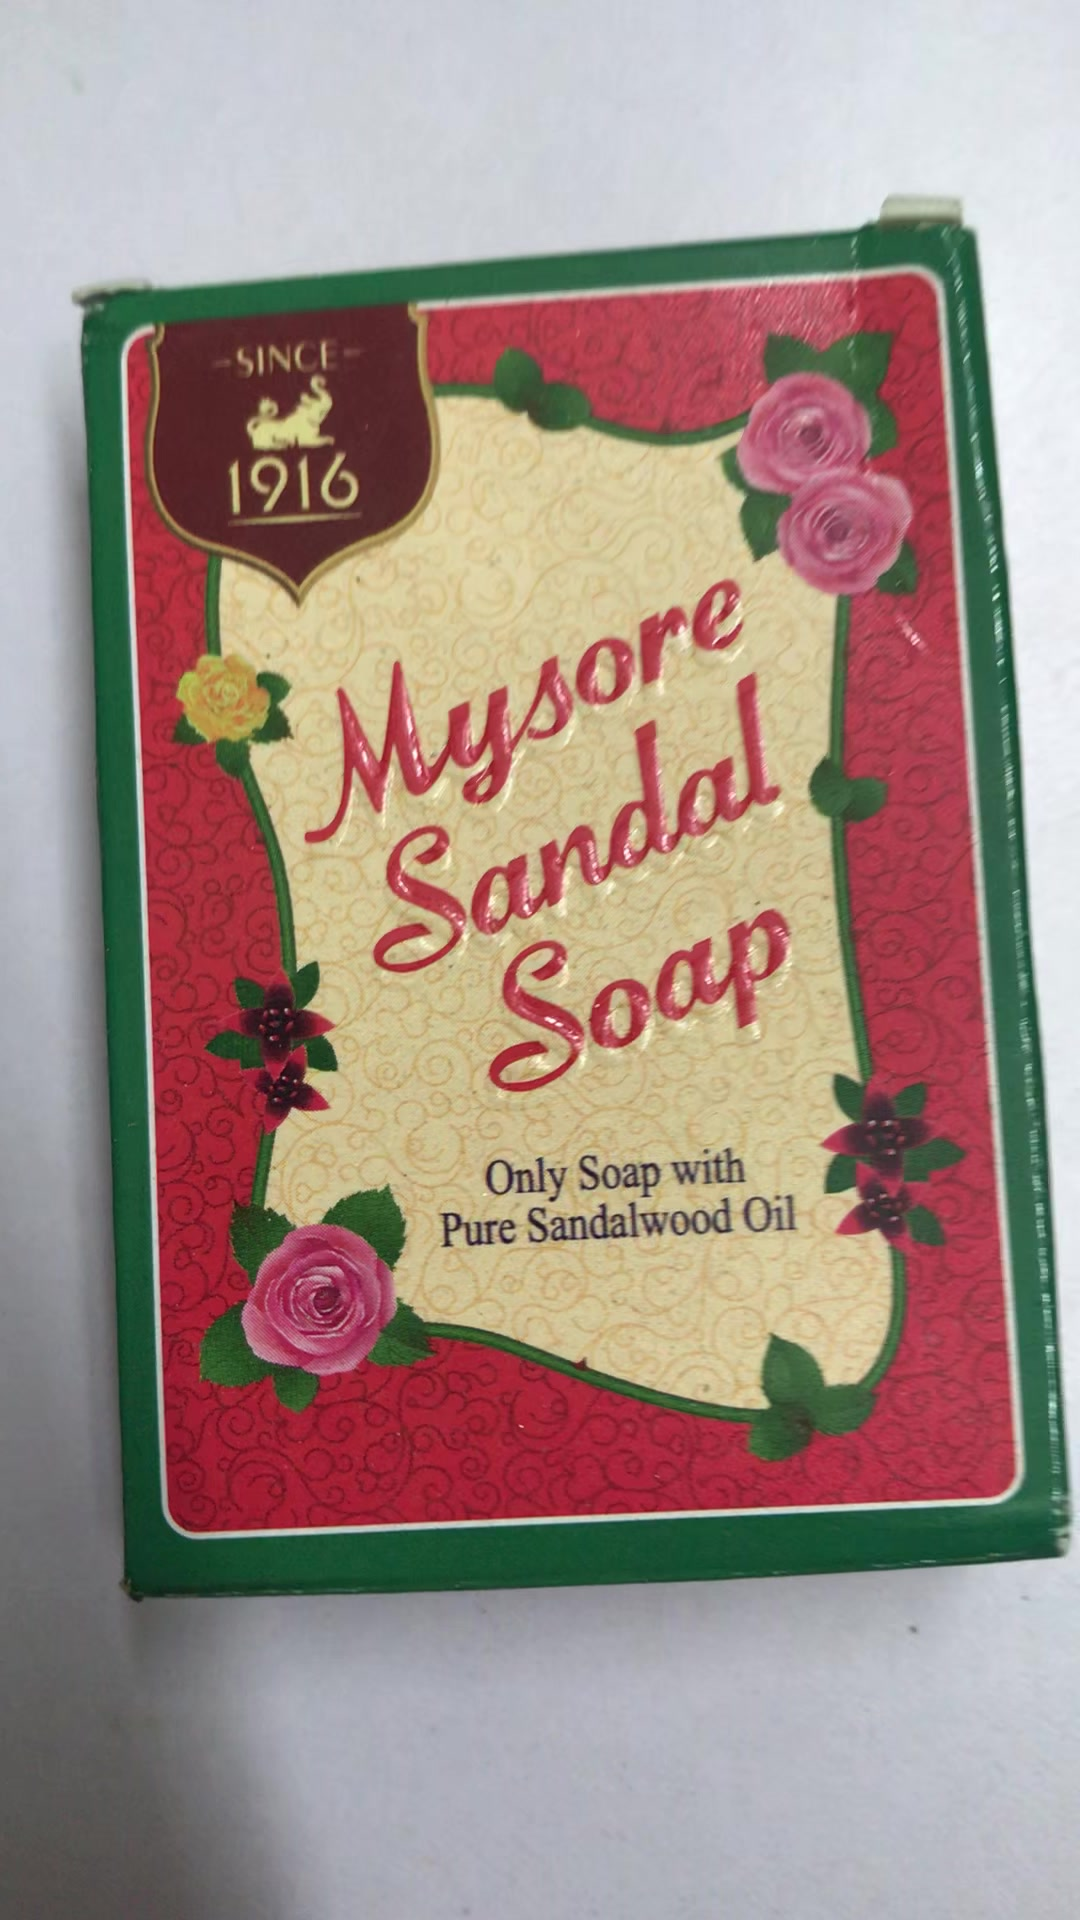mysore sandal soap: (82, 225, 1080, 1604)
